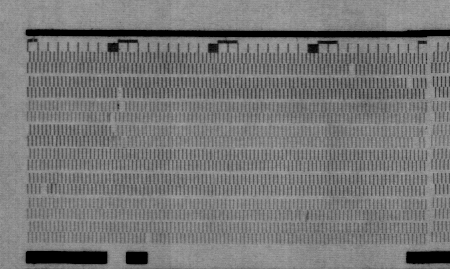Broken hole: (409, 135, 422, 149), (117, 99, 129, 114), (143, 232, 156, 244), (113, 87, 125, 99), (39, 183, 51, 195), (347, 65, 359, 76), (404, 78, 415, 90), (299, 209, 310, 221), (108, 114, 117, 125)
Oblique printing: (109, 124, 119, 140)
